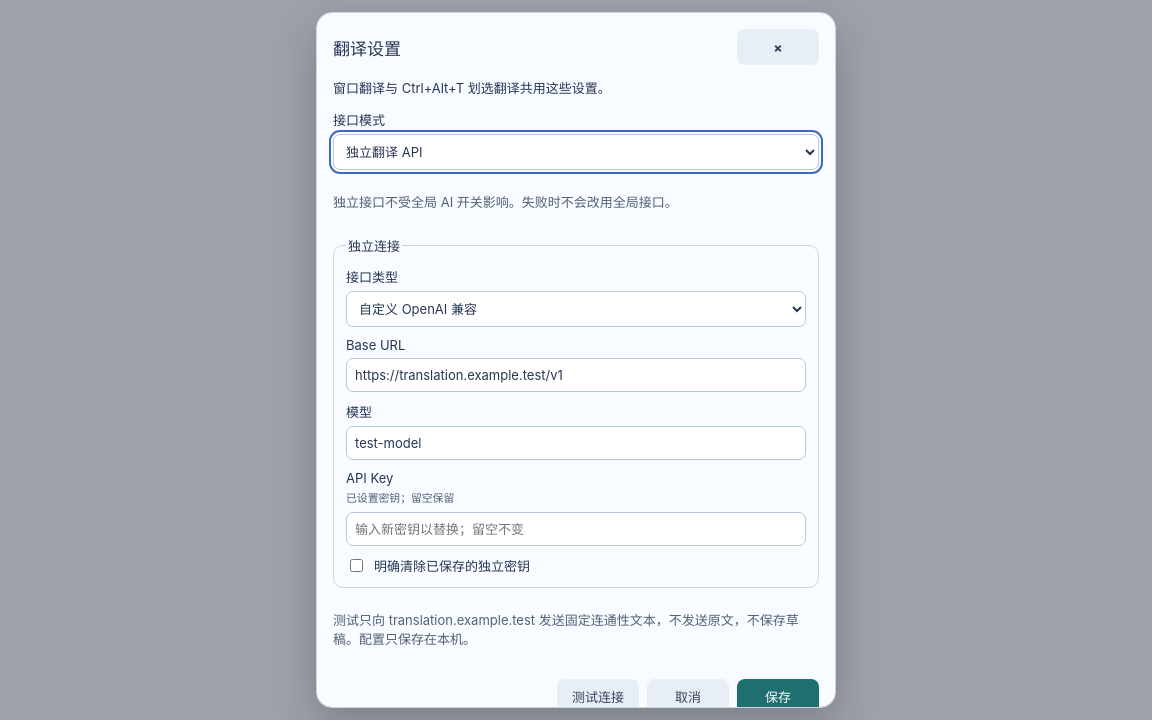
Test: TranslatorApiSettings › tests the clear draft without saving or exposing the stored key
Check: the password field labelled "API Key 已设置密钥；留空保留" is empty, box [346,512,806,546]
Click the checkbox labelled "明确清除已保存的独立密钥". click: [356, 565]
box: [350,559,363,572]
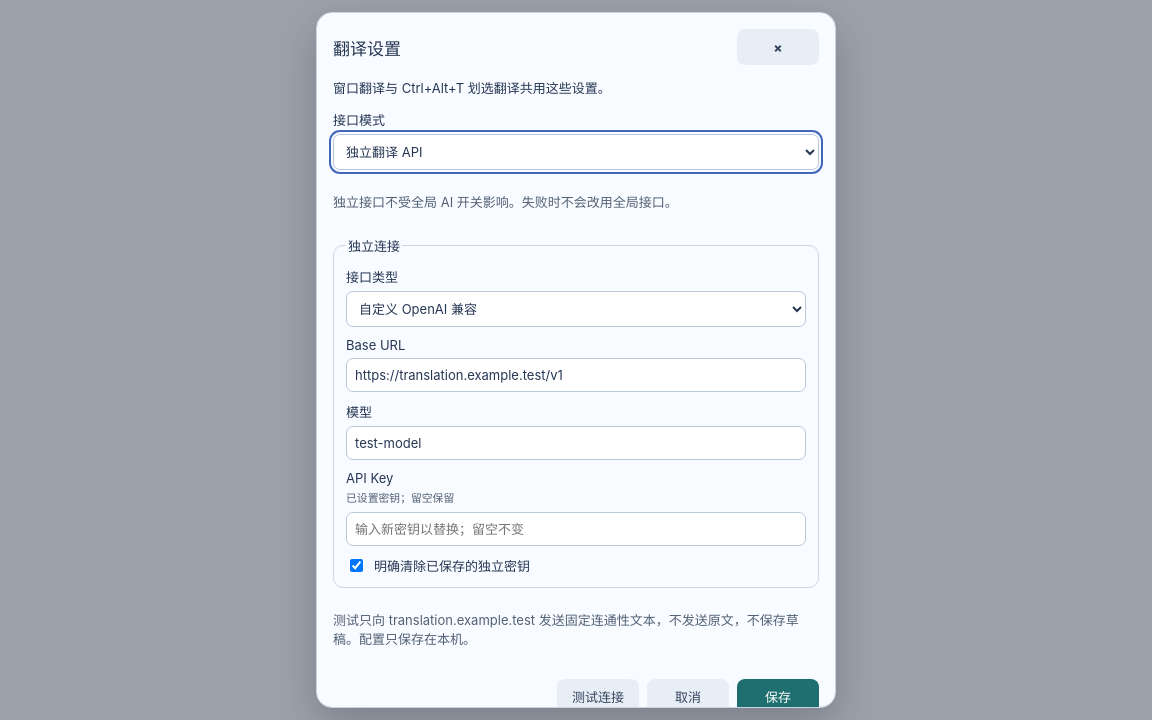
Click the button "测试连接". click: [598, 697]
box: [557,679,639,715]
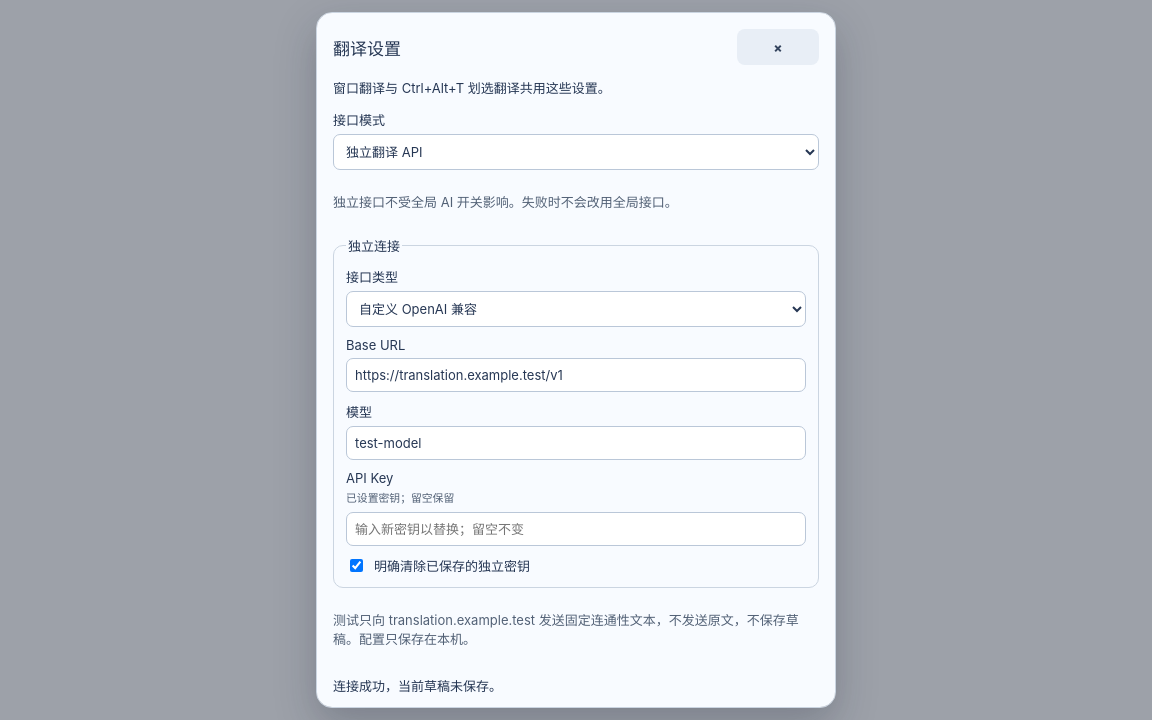
Check: the text "当前草稿未保存" is shown, box [333,678,502,694]
